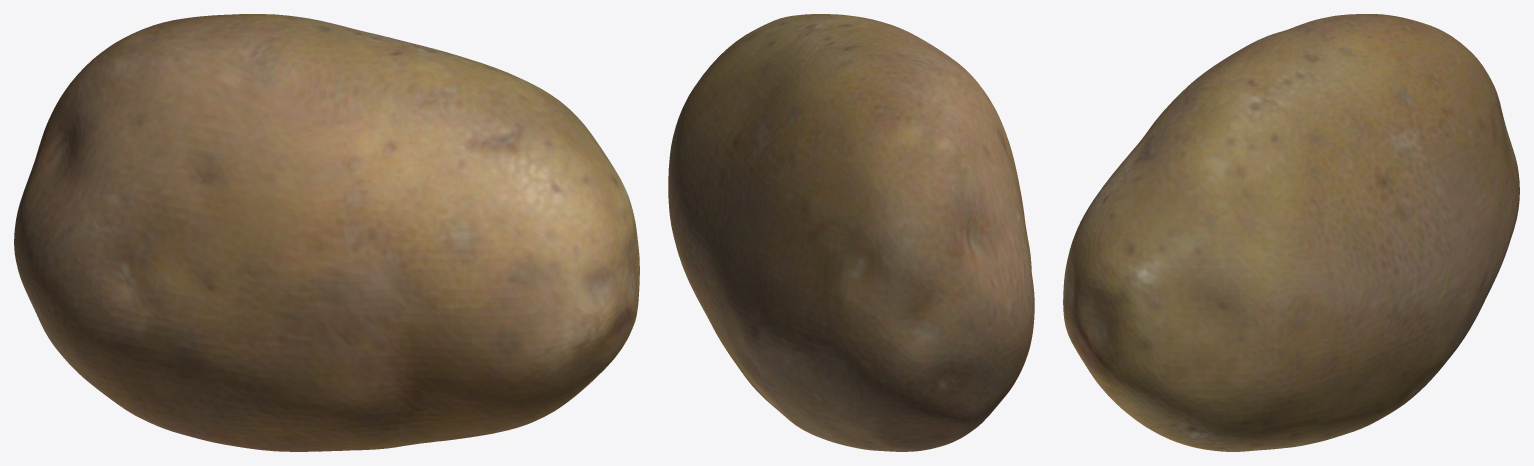
Rendered from potatoPaperScan5.obj.
The picture shows the model from 3 angles, left to right: view 1: azimuth 30°, elevation 25°; view 2: azimuth 150°, elevation 25°; view 3: azimuth 270°, elevation 25°; orthographic projection. The views are drawn at different scales.
Parts seen in each view (by area): view 1: potatoPaperScan5; view 2: potatoPaperScan5; view 3: potatoPaperScan5.
Boxes of the visible parts, x1,y1,x2,y2 form: potatoPaperScan5: (14,14,639,451); potatoPaperScan5: (668,14,1034,451); potatoPaperScan5: (1063,14,1519,451).
Size of the model in its own units: 77.09 by 66.46 by 73.87.
